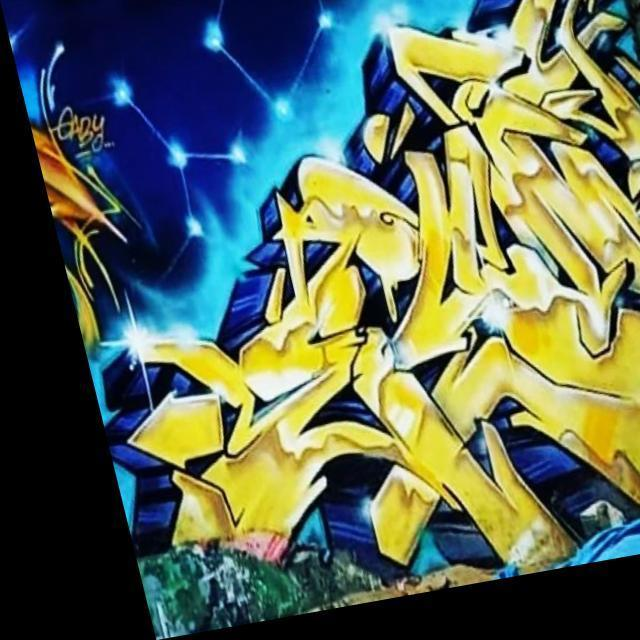-: (0, 0, 640, 630), (38, 94, 108, 180)
